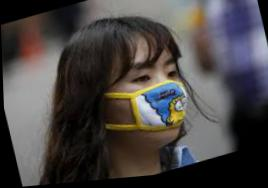WRONG: (104, 45, 196, 159)
